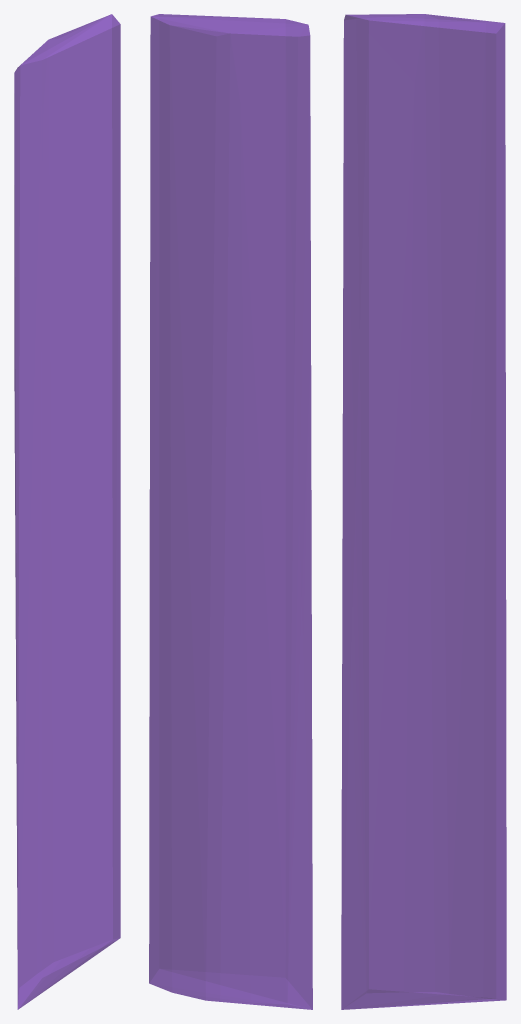
3 views of the same model, side by side, from view 1: azimuth 30°, elevation 25°; view 2: azimuth 150°, elevation 25°; view 3: azimuth 330°, elevation 25° (orthographic). The views are drawn at different scales.
Parts seen in each view (by area): view 1: Shape_IndexedFaceSet.022_Shape_IndexedFaceSet.786; view 2: Shape_IndexedFaceSet.022_Shape_IndexedFaceSet.786; view 3: Shape_IndexedFaceSet.022_Shape_IndexedFaceSet.786.
Part boxes in pixels (bbox=[...]): Shape_IndexedFaceSet.022_Shape_IndexedFaceSet.786: bbox=[14, 14, 120, 1009]; Shape_IndexedFaceSet.022_Shape_IndexedFaceSet.786: bbox=[149, 14, 312, 1009]; Shape_IndexedFaceSet.022_Shape_IndexedFaceSet.786: bbox=[341, 14, 506, 1009].
Bounding box in the file's own units: 0.1691 × 1.21 × 0.0718.
